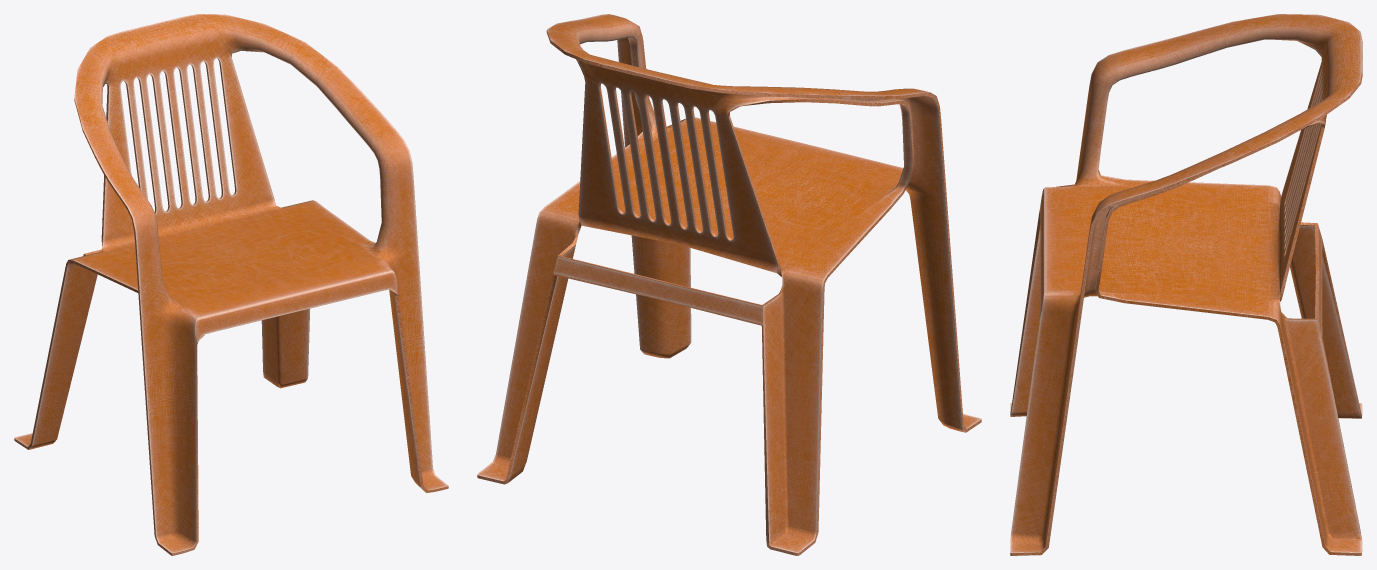
Rendered from simple_plastic_chair.glb.
3 views of the same model, side by side, from view 1: azimuth 30°, elevation 25°; view 2: azimuth 150°, elevation 25°; view 3: azimuth 270°, elevation 25° (orthographic). The views are drawn at different scales.
Visible parts, largest first — view 1: chair_l_Material.001_0; view 2: chair_l_Material.001_0; view 3: chair_l_Material.001_0.
Part boxes in pixels (x1,y1,x2,y2): chair_l_Material.001_0: (14,14,448,555); chair_l_Material.001_0: (477,14,981,555); chair_l_Material.001_0: (1010,14,1362,555).
Bounding box in the file's own units: 0.8122 × 1.07 × 0.8054.
Materials: 1 (1 with a texture image).
